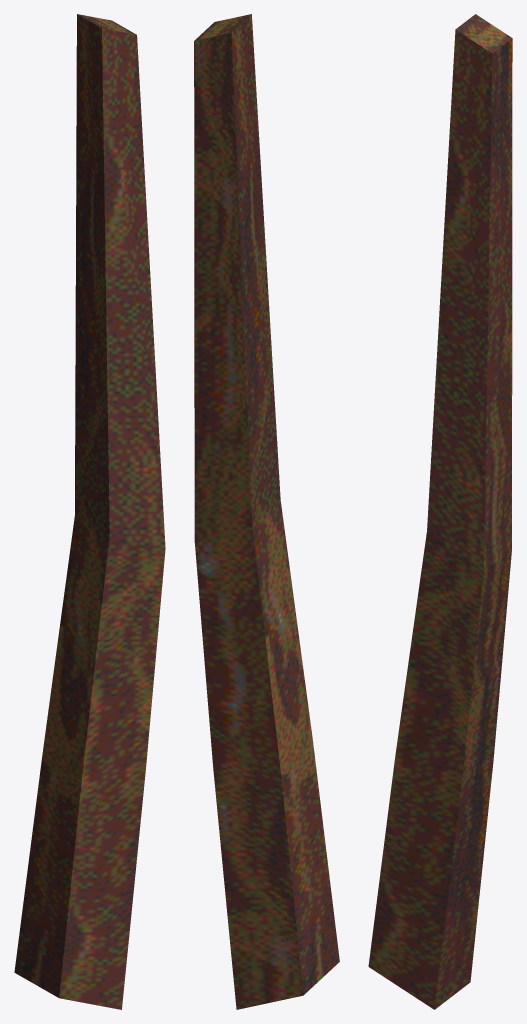
Rendered from SlapBros_Beach_Beam_7.fbx.
The picture shows the model from 3 angles, left to right: view 1: azimuth 30°, elevation 25°; view 2: azimuth 150°, elevation 25°; view 3: azimuth 330°, elevation 25°; orthographic projection.
Visible parts, largest first — view 1: SlapBros_Beach_Beam_7; view 2: SlapBros_Beach_Beam_7; view 3: SlapBros_Beach_Beam_7.
Boxes of the visible parts, x1,y1,x2,y2 form: SlapBros_Beach_Beam_7: (14,14,165,1009); SlapBros_Beach_Beam_7: (194,14,339,1009); SlapBros_Beach_Beam_7: (368,14,512,1009).
Size of the model in its own units: 1.08 by 8.64 by 0.7372.
